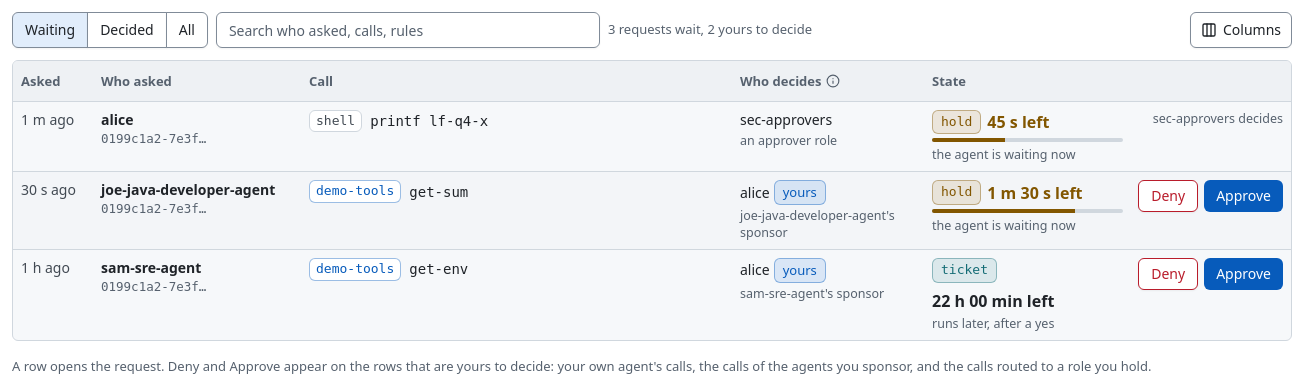
Test: the self-service requests tab › reads the decided rows from the history feed, the first page with no cursor
Check: the button with aria-label "Open get-sum for joe-java-developer-agent" is shown, box [13,172,1291,250]
Click the button "Decided": (127, 30) [87,12,167,48]
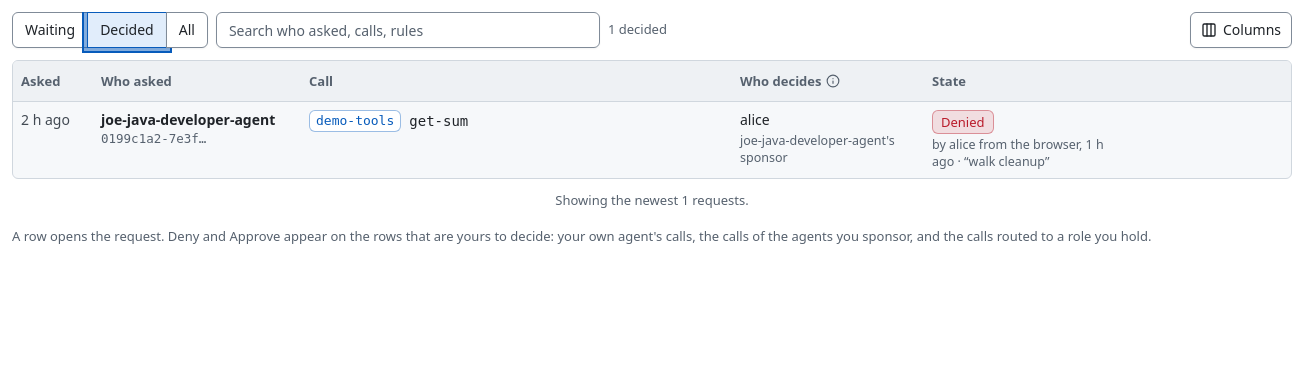
Check: the text "by alice from the browser, 1 h ago · “walk cleanup”" is shown, box [932,136,1123,170]
